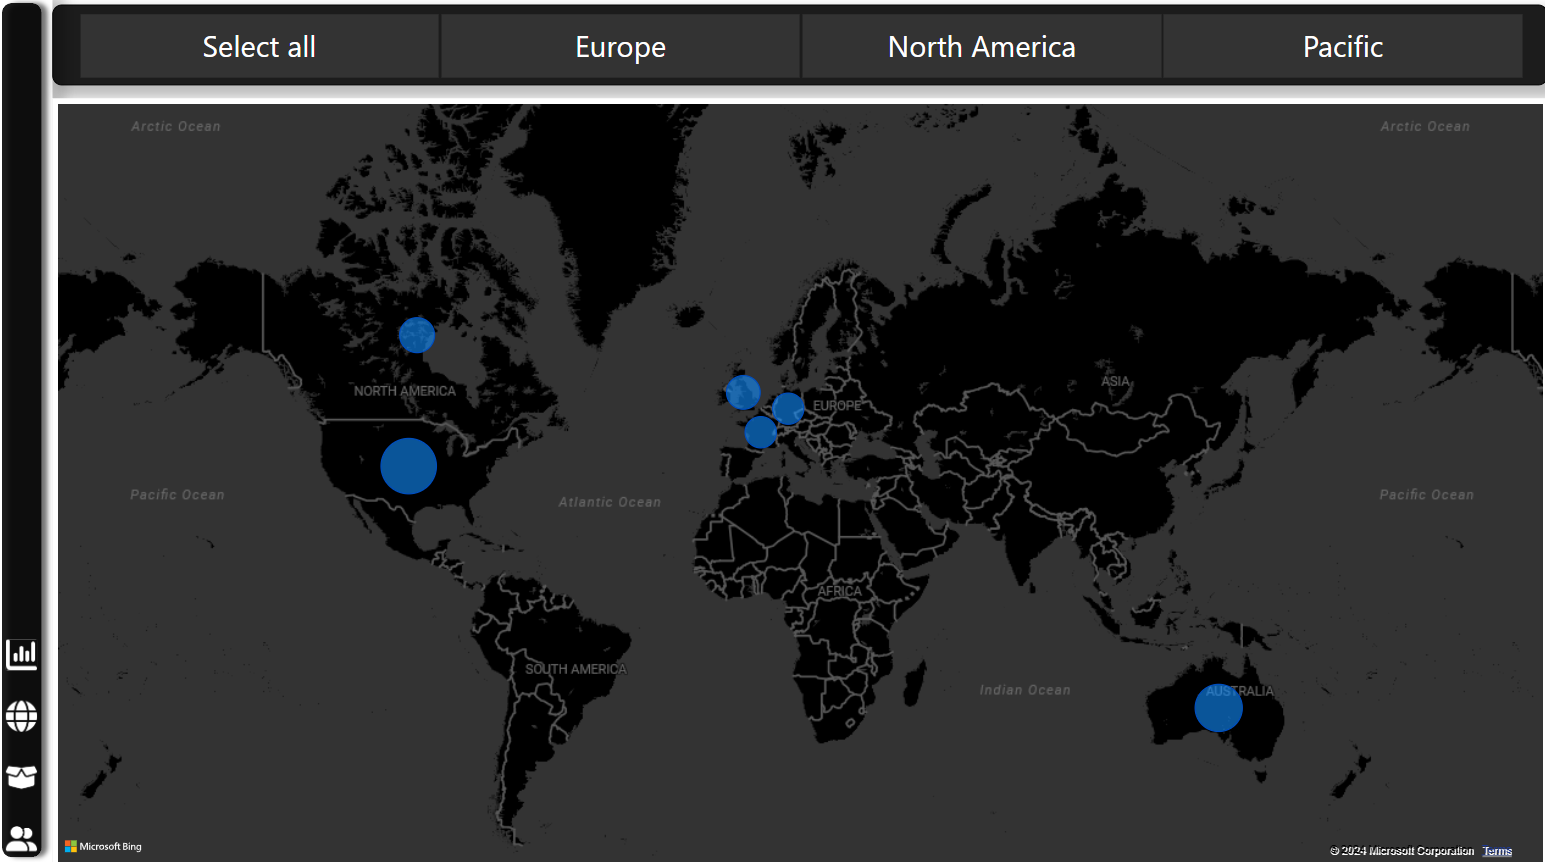

This screenshot's page, from the dashboard's own definition file:
{"tool":"powerbi","page":{"name":"Map","canvas":[1280,720],"ordinal":1},"visuals":[{"type":"shape","title":"Navigation Bar","box":[0,0,50.5,718.5],"z":0},{"type":"slicer","fields":{"Values":["Territory Lookup.Continent"]},"box":[50.5,10.1,1226.3,66.4],"z":1000},{"type":"actionButton","box":[8.4,527.3,61.1,33.6],"z":2000},{"type":"actionButton","box":[8.4,627.2,61.1,33.6],"z":3000},{"type":"actionButton","box":[8.4,677.2,61.1,33.6],"z":4000},{"type":"actionButton","box":[8.4,577.3,61.1,33.6],"z":5000},{"type":"map","fields":{"Category":["Territory Lookup.Territory Hierarchy.Continent","Territory Lookup.Territory Hierarchy.Country","Territory Lookup.Territory Hierarchy.Region"]},"box":[54.3,76.9,1225.9,627.3],"z":6000}]}

Visuals, with their boxes on the page's 1280x720 design canvas (x1, y1, x2, y2). These are canvas units, not pixel positions in the 1545x862 screenshot, which may show the page scaled, cropped or inside an application window:
"Navigation Bar" shape: Rect(0, 0, 50, 718)
slicer - Territory Lookup.Continent: Rect(50, 10, 1277, 76)
actionButton: Rect(8, 527, 70, 561)
actionButton: Rect(8, 627, 70, 661)
actionButton: Rect(8, 677, 70, 711)
actionButton: Rect(8, 577, 70, 611)
map - Territory Lookup.Territory Hierarchy.Continent x Territory Lookup.Territory Hierarchy.Country: Rect(54, 77, 1280, 704)
